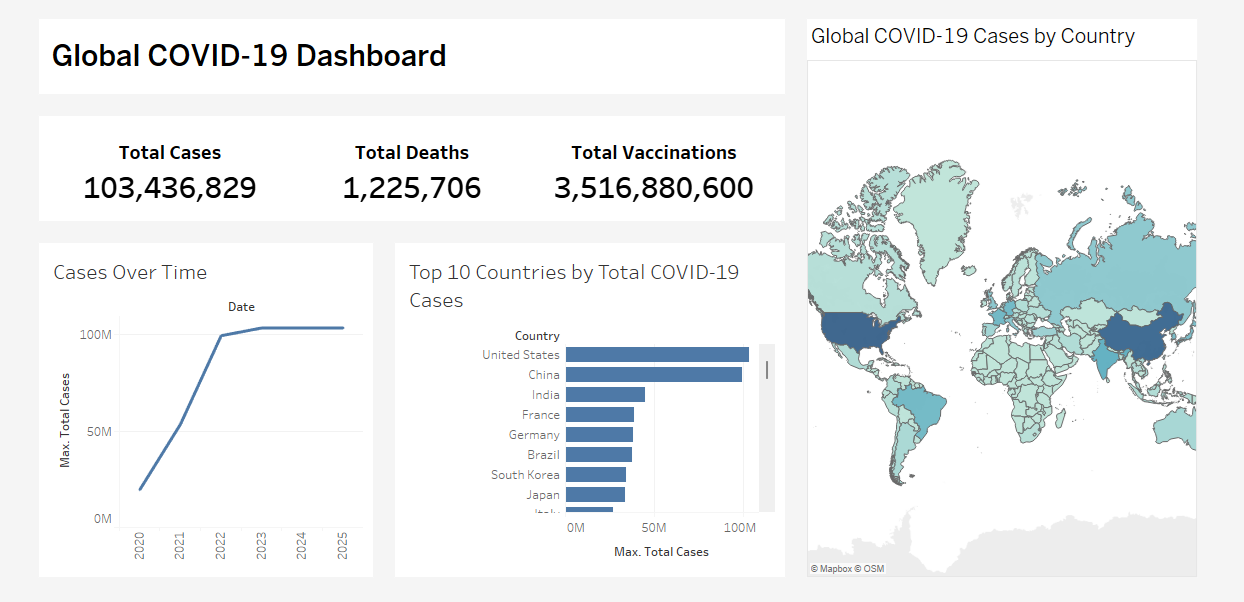

This screenshot's page, from the dashboard's own definition file:
{"tool":"tableau","page":{"name":"Dashboard 1","canvas":[1200,600],"ordinal":0},"visuals":[{"type":"text","box":[10,10,768,97]},{"type":"worksheet","title":"Global COVID-19 Cases by Country","mark":"Automatic","box":[778,10,412,580]},{"type":"worksheet","title":"KPI","mark":"Automatic","box":[10,107,768,127]},{"type":"worksheet","title":"Cases Over Time ","mark":"Automatic","rows":["total_cases"],"cols":["date"],"box":[10,234,356,356]},{"type":"worksheet","title":"Top 10 Countries by Total COVID-19 Cases","mark":"Automatic","rows":["country"],"cols":["total_cases"],"box":[366,234,412,356]}]}

Visuals, with their boxes on the page's 1200x600 design canvas (x1, y1, x2, y2). These are canvas units, not pixel positions in the 1244x602 screenshot, which may show the page scaled, cropped or inside an application window:
text: (10, 10, 778, 107)
"Global COVID-19 Cases by Country" worksheet: (778, 10, 1190, 590)
"KPI" worksheet: (10, 107, 778, 234)
"Cases Over Time " worksheet: (10, 234, 366, 590)
"Top 10 Countries by Total COVID-19 Cases" worksheet: (366, 234, 778, 590)
